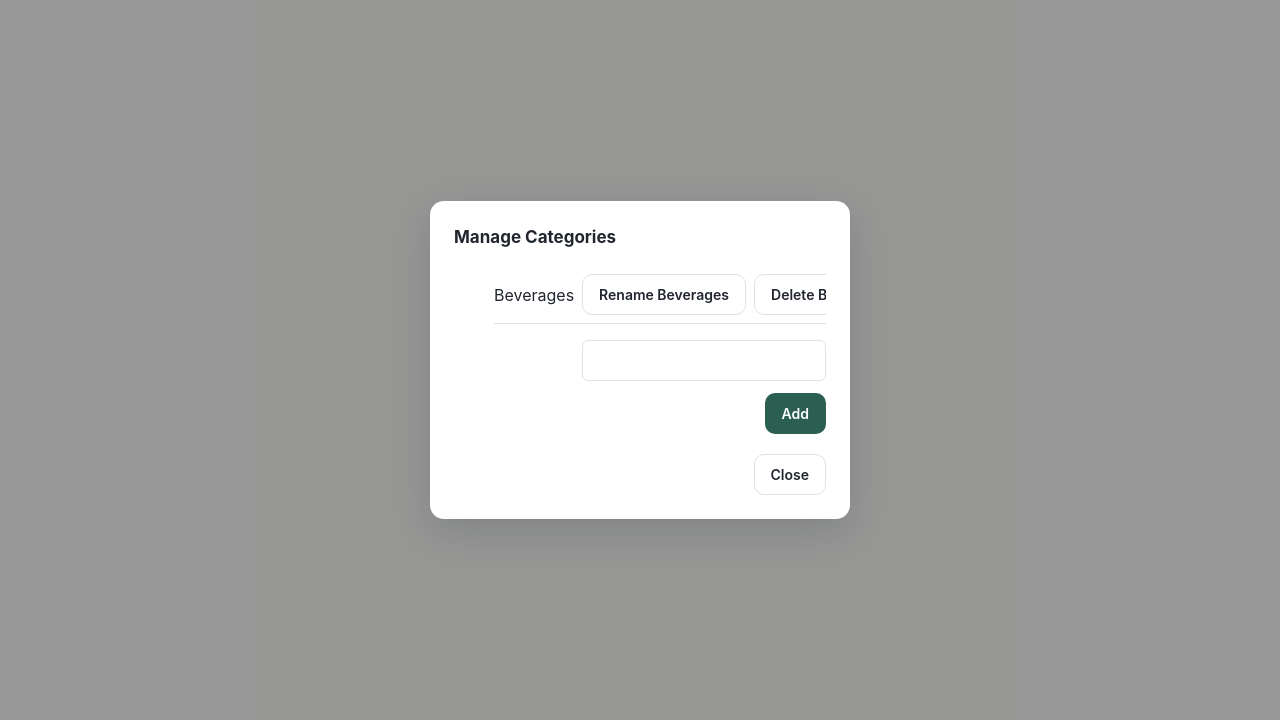
Test: CategoryManager › shows an error message when a rename fails
Click the button "Rename Beverages": (664, 295) [582,274,746,315]
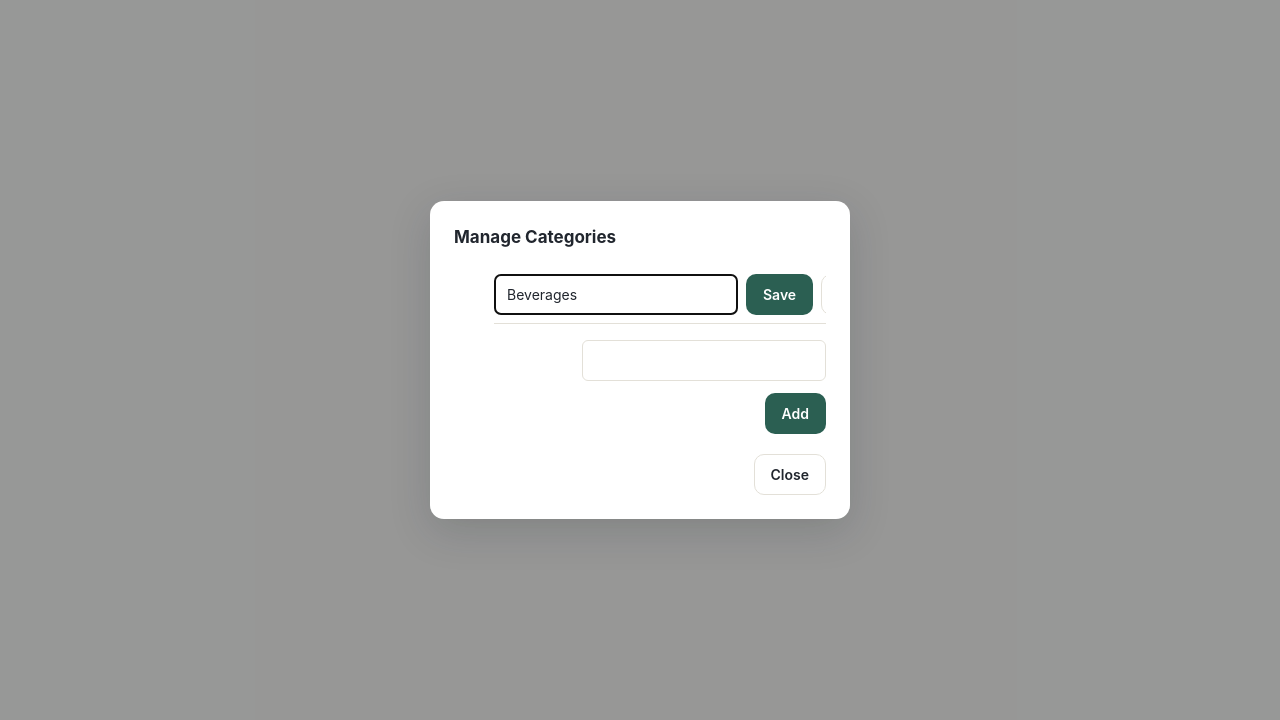
Replace the text in the field named "Rename Beverages" with "Drinks": (616, 295) [494,274,738,315]
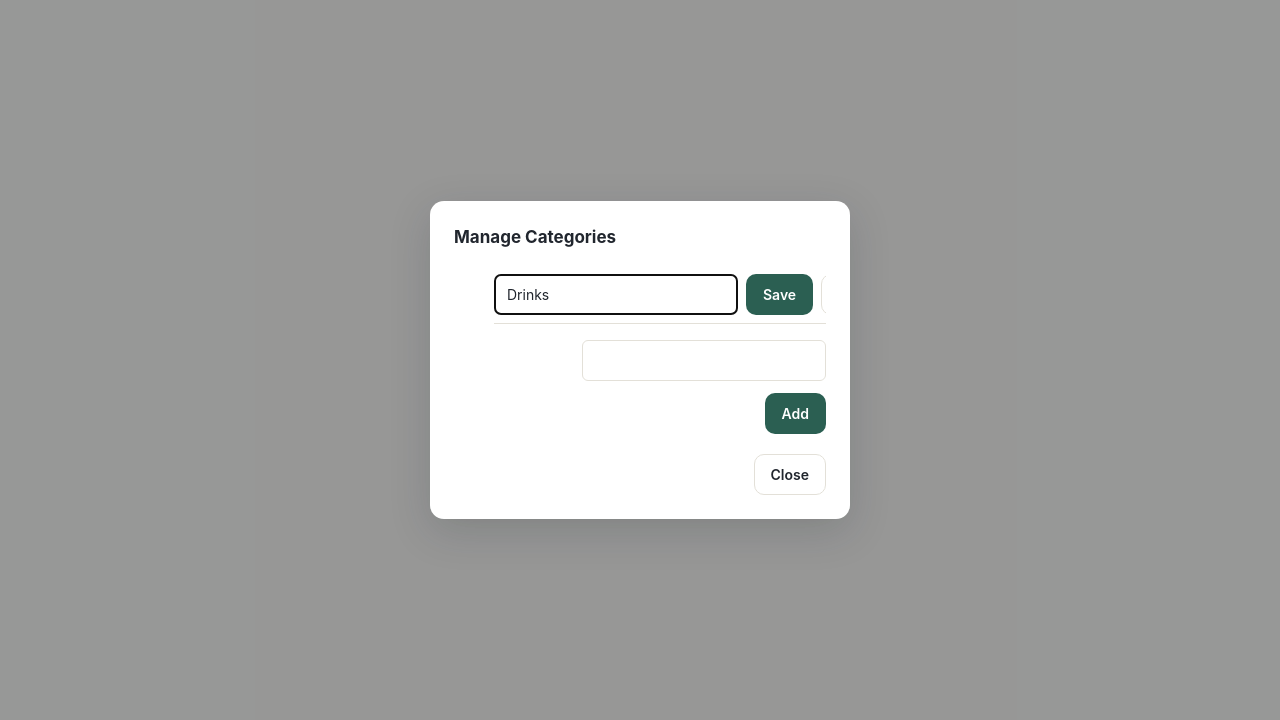
Click the button "Save": (780, 295) [746,274,813,315]
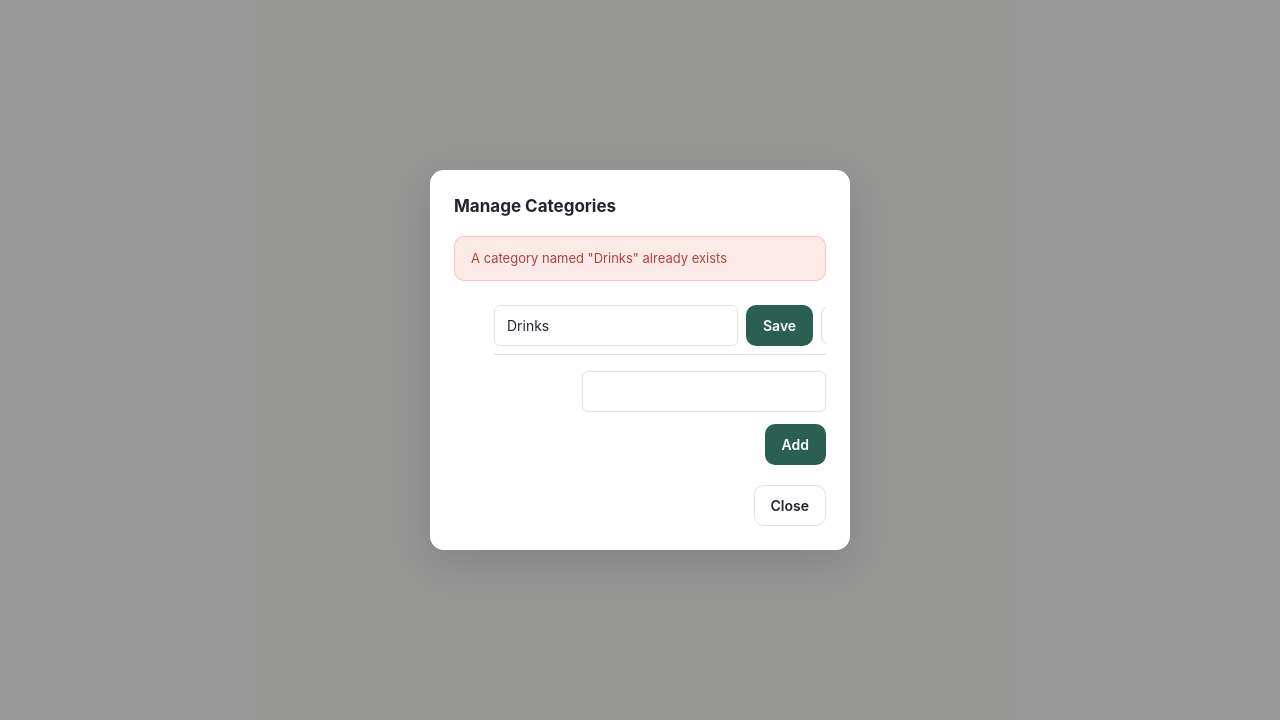
Now the message reads "A category named \"Drinks\" already exists", box [471,250,727,266]
